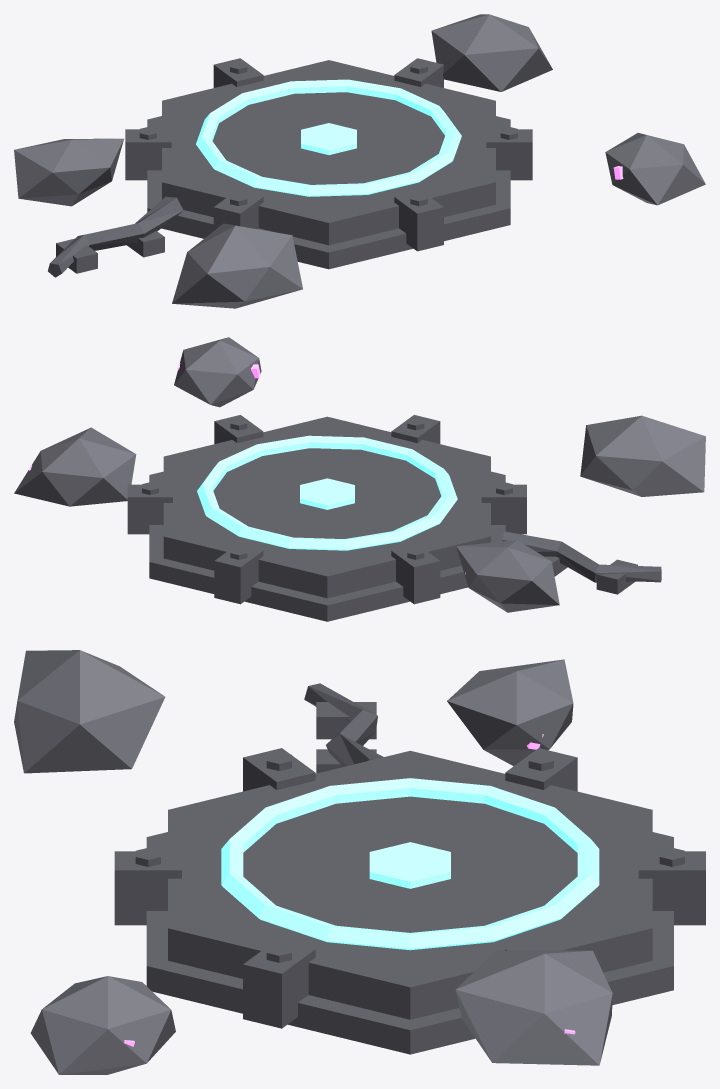
Rendered from Scan_Seat.fbx.
3 renders of one model, top to bottom at view 1: azimuth 30°, elevation 25°; view 2: azimuth 150°, elevation 25°; view 3: azimuth 270°, elevation 25°, orthographic. The views are drawn at different scales.
Parts seen in each view (by area): view 1: ScanSeat_Pad_PadDark, ScanSeat_Rocks_PadRock, ScanSeat_PadRing_Cyan, ScanSeat_Cable_PadDark; view 2: ScanSeat_Pad_PadDark, ScanSeat_Rocks_PadRock, ScanSeat_PadRing_Cyan, ScanSeat_Cable_PadDark; view 3: ScanSeat_Pad_PadDark, ScanSeat_Rocks_PadRock, ScanSeat_PadRing_Cyan, ScanSeat_Cable_PadDark.
Boxes of the visible parts, x1=… form: ScanSeat_Pad_PadDark: x1=125, y1=58, x2=532, y2=269; ScanSeat_Rocks_PadRock: x1=14, y1=14, x2=705, y2=308; ScanSeat_PadRing_Cyan: x1=196, y1=79, x2=461, y2=196; ScanSeat_Cable_PadDark: x1=48, y1=196, x2=183, y2=277; ScanSeat_Pad_PadDark: x1=127, y1=415, x2=526, y2=621; ScanSeat_Rocks_PadRock: x1=14, y1=337, x2=705, y2=612; ScanSeat_PadRing_Cyan: x1=197, y1=435, x2=457, y2=550; ScanSeat_Cable_PadDark: x1=502, y1=531, x2=661, y2=594; ScanSeat_Pad_PadDark: x1=114, y1=748, x2=705, y2=1054; ScanSeat_Rocks_PadRock: x1=14, y1=650, x2=612, y2=1074; ScanSeat_PadRing_Cyan: x1=221, y1=778, x2=599, y2=950; ScanSeat_Cable_PadDark: x1=304, y1=683, x2=383, y2=773.
Size of the model in its own units: 8.49 by 1.27 by 6.18.
